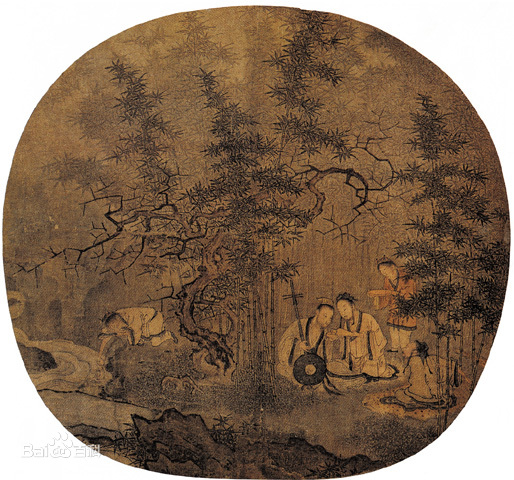bamboo: (193, 68, 283, 376), (401, 93, 486, 389), (165, 23, 295, 170), (273, 11, 334, 165), (109, 61, 171, 201), (56, 88, 125, 192)
creek: (7, 290, 109, 400)
instrument: (282, 270, 325, 393)
man: (332, 290, 392, 388), (278, 296, 335, 390), (99, 304, 178, 349), (399, 341, 449, 408)
woman: (363, 254, 415, 353)
